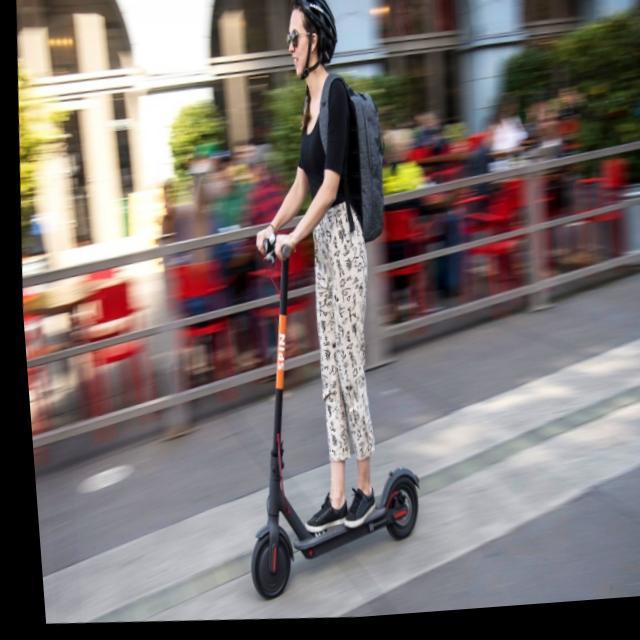Helmet: (277, 0, 340, 82)
